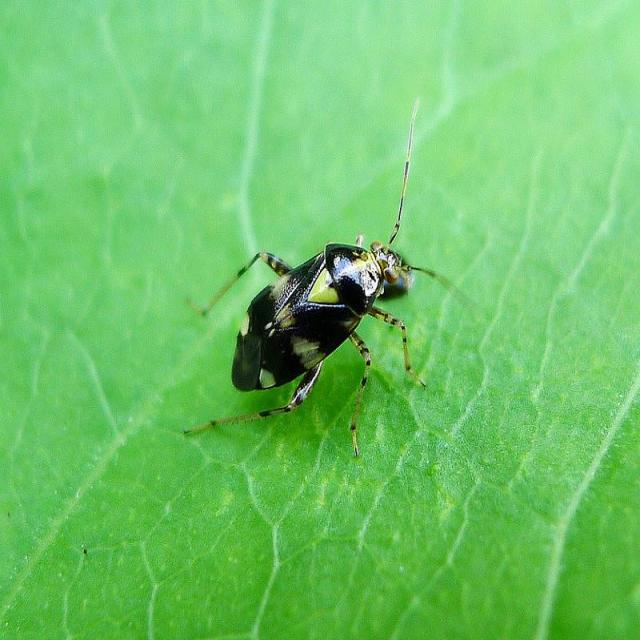Miridae-Adult-: (166, 89, 482, 464)
